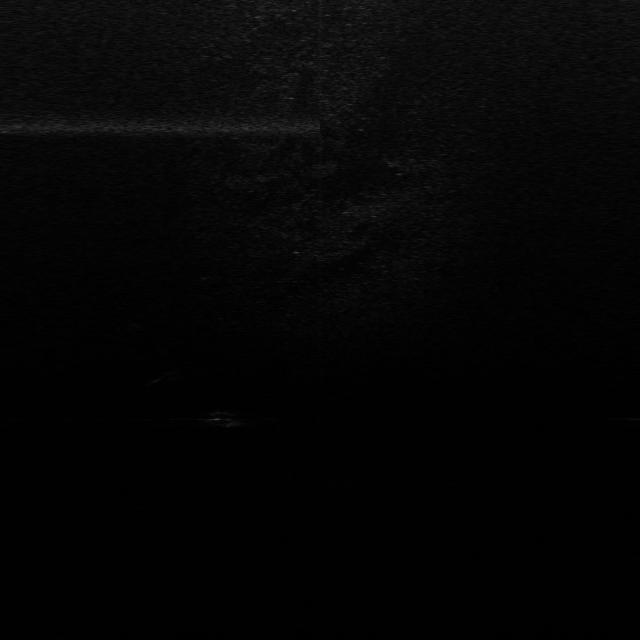ball: (161, 364, 187, 382)
circle cage: (127, 312, 151, 328)
tyre: (206, 412, 244, 428)
